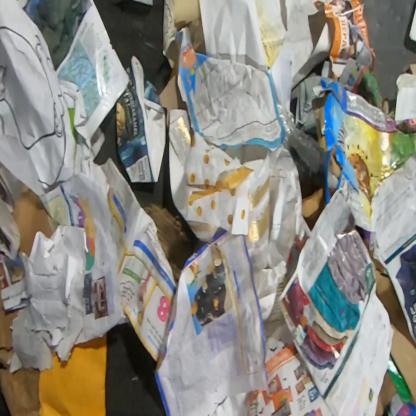cardboard: (301, 78, 415, 270), (362, 239, 416, 406), (116, 55, 166, 183), (144, 203, 209, 284), (0, 302, 41, 415), (10, 184, 53, 258), (159, 72, 188, 128), (374, 369, 398, 415)
rigid_plastic: (276, 102, 326, 179)
